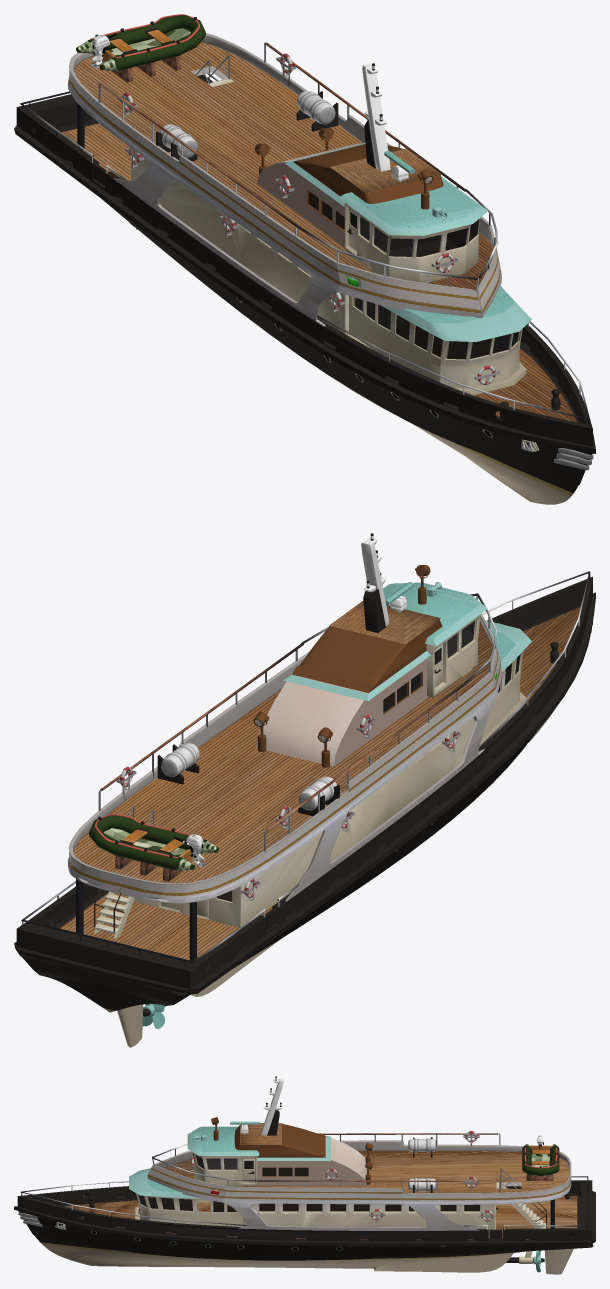
Rendered from yacht_ii.glb.
3 views of the same model, one above another, from view 1: azimuth 30°, elevation 25°; view 2: azimuth 150°, elevation 25°; view 3: azimuth 270°, elevation 25° (orthographic). The views are drawn at different scales.
Visible parts, largest first — view 1: Object_31, Object_14, Object_34, Object_30, Object_2, Object_33, Object_29, Object_12, Object_27, Object_15, Object_4, Object_16 (+3 smaller); view 2: Object_31, Object_14, Object_34, Object_30, Object_4, Object_12, Object_2, Object_29, Object_27, Object_15, Object_16, Object_38 (+2 smaller); view 3: Object_31, Object_34, Object_14, Object_30, Object_2, Object_4, Object_33, Object_29, Object_12, Object_27, Object_16, Object_38 (+4 smaller).
Boxes of the visible parts, x1=… form: Object_31: x1=14, y1=17, x2=595, y2=493; Object_14: x1=61, y1=42, x2=576, y2=422; Object_34: x1=130, y1=78, x2=571, y2=504; Object_30: x1=67, y1=55, x2=501, y2=325; Object_2: x1=135, y1=143, x2=531, y2=341; Object_33: x1=290, y1=191, x2=518, y2=359; Object_29: x1=69, y1=33, x2=500, y2=326; Object_12: x1=254, y1=128, x2=443, y2=231; Object_27: x1=20, y1=42, x2=590, y2=426; Object_15: x1=76, y1=15, x2=205, y2=71; Object_4: x1=257, y1=143, x2=364, y2=247; Object_16: x1=117, y1=56, x2=500, y2=385; Object_31: x1=14, y1=533, x2=595, y2=1016; Object_14: x1=60, y1=600, x2=580, y2=963; Object_34: x1=93, y1=615, x2=555, y2=1047; Object_30: x1=67, y1=646, x2=501, y2=903; Object_4: x1=256, y1=658, x2=428, y2=766; Object_12: x1=253, y1=565, x2=442, y2=767; Object_2: x1=142, y1=582, x2=531, y2=1028; Object_29: x1=69, y1=614, x2=500, y2=901; Object_27: x1=21, y1=571, x2=590, y2=966; Object_15: x1=89, y1=815, x2=218, y2=870; Object_16: x1=116, y1=718, x2=460, y2=900; Object_38: x1=100, y1=643, x2=466, y2=881; Object_31: x1=14, y1=1076, x2=595, y2=1262; Object_34: x1=43, y1=1152, x2=573, y2=1274; Object_14: x1=64, y1=1123, x2=587, y2=1246; Object_30: x1=147, y1=1140, x2=571, y2=1230; Object_2: x1=129, y1=1121, x2=541, y2=1272; Object_4: x1=257, y1=1137, x2=366, y2=1185; Object_33: x1=138, y1=1153, x2=479, y2=1211; Object_29: x1=154, y1=1140, x2=571, y2=1230; Object_12: x1=211, y1=1117, x2=373, y2=1184; Object_27: x1=21, y1=1133, x2=588, y2=1229; Object_16: x1=138, y1=1135, x2=495, y2=1223; Object_38: x1=263, y1=1133, x2=553, y2=1181.
Size of the model in its own units: 22.7 by 39.29 by 105.
28 materials, 26 textured.
